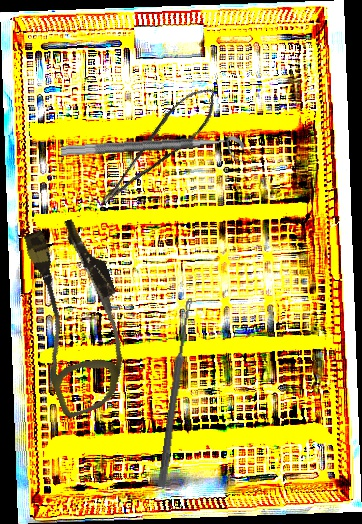Cannula: (1, 213, 152, 420)
Fixation Ring: (60, 135, 245, 172)
Micro Scissor: (82, 78, 231, 210)
Surgical Spoon: (157, 297, 194, 488)
